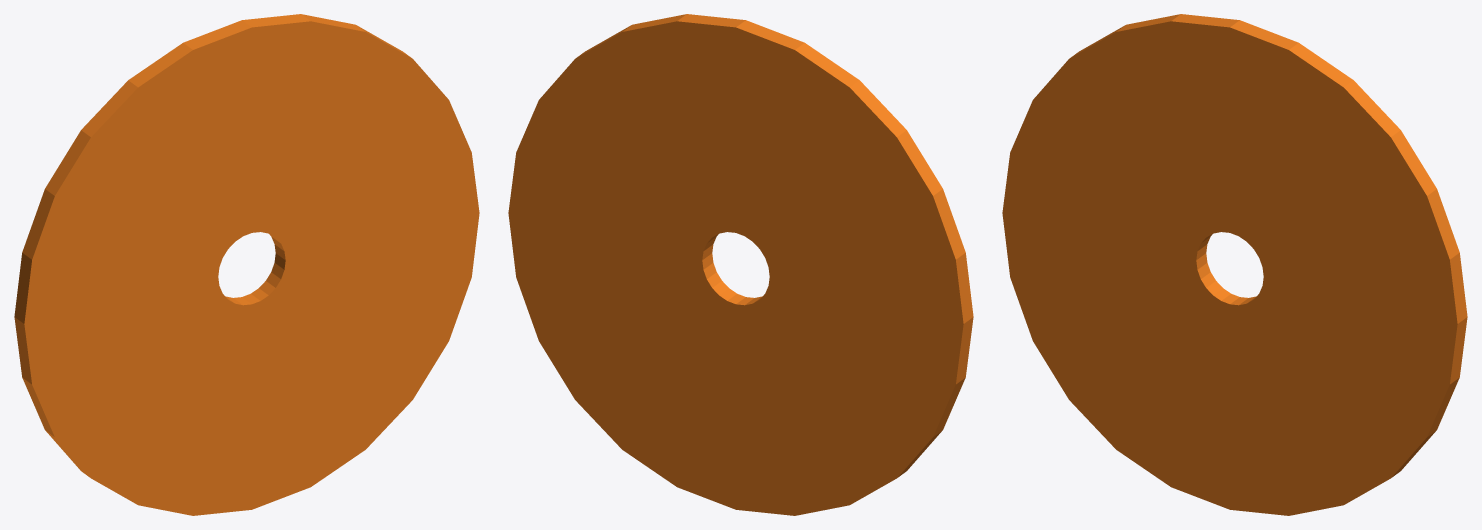
Rendered from tinker.obj.
The picture shows the model from 3 angles, left to right: view 1: azimuth 30°, elevation 25°; view 2: azimuth 150°, elevation 25°; view 3: azimuth 330°, elevation 25°; orthographic projection.
Visible parts, largest first — view 1: obj_0; view 2: obj_0; view 3: obj_0.
Part boxes in pixels (left/top/right/bottom): obj_0: left=14, top=14, right=479, bottom=515; obj_0: left=508, top=14, right=973, bottom=515; obj_0: left=1002, top=14, right=1467, bottom=515.
Bounding box in the file's own units: 79 × 80 × 3.
